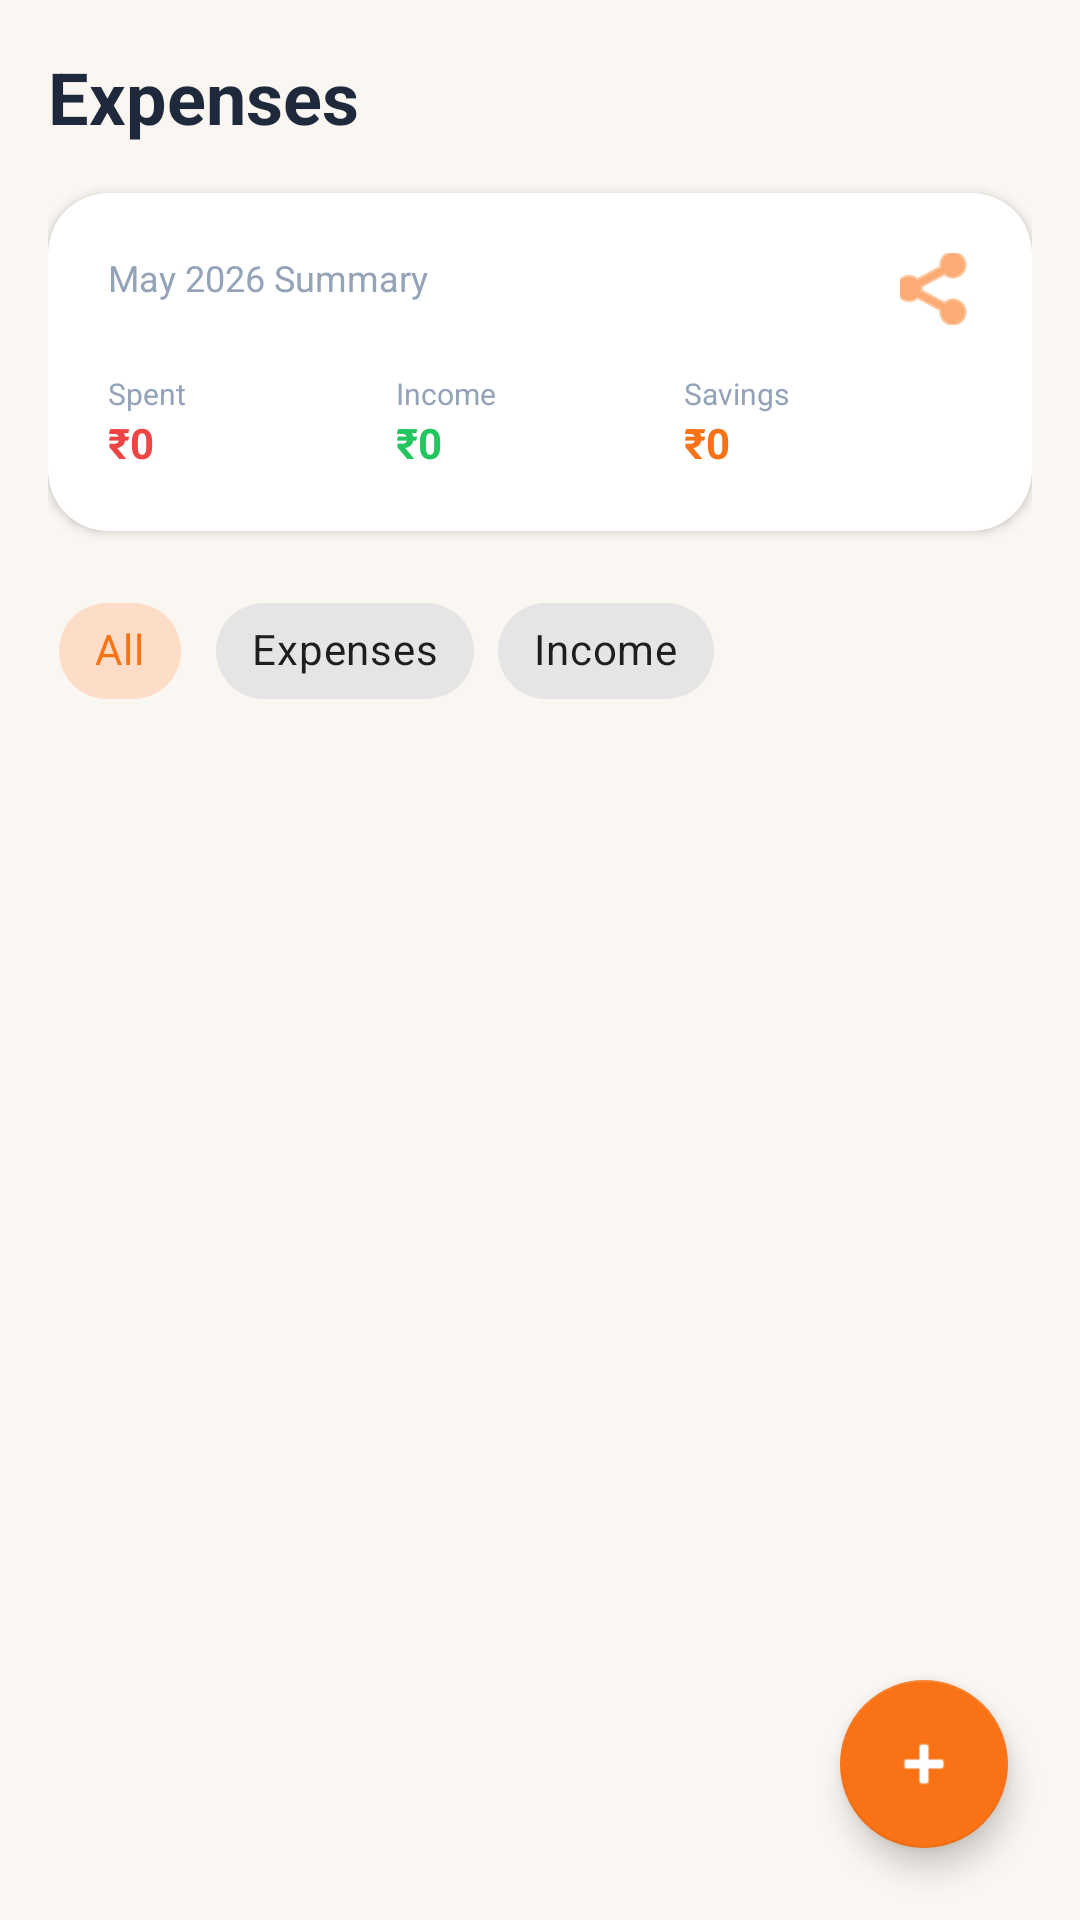

Icons on this 1080 × 1920 Android screen, each with its box as {"x1": x1, "y1": y1, "x2": x2, "y2": y2}:
add: {"x1": 840, "y1": 1680, "x2": 1008, "y2": 1848}
share: {"x1": 900, "y1": 253, "x2": 967, "y2": 325}
